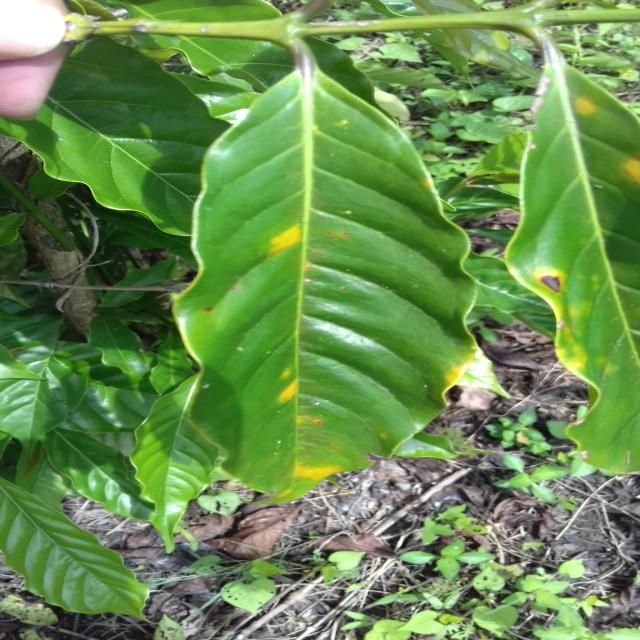Enfermedad-Roya: (186, 56, 477, 504)
